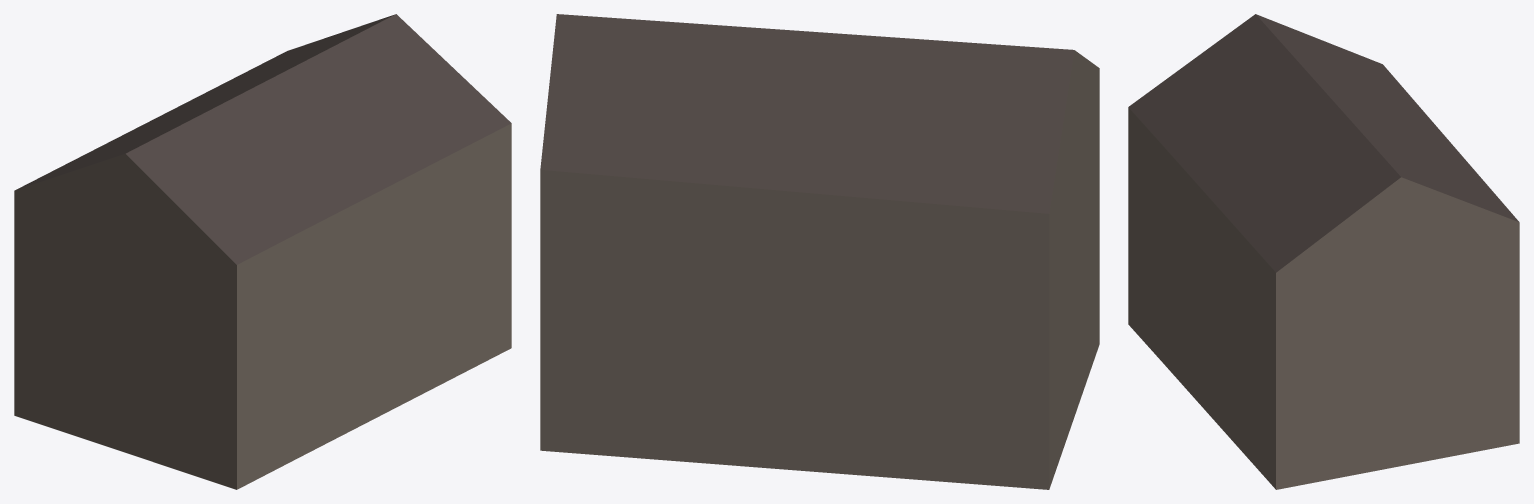
The picture shows the model from 3 angles, left to right: view 1: azimuth 30°, elevation 25°; view 2: azimuth 150°, elevation 25°; view 3: azimuth 270°, elevation 25°; orthographic projection. The views are drawn at different scales.
Parts seen in each view (by area): view 1: HP-w1513026719; view 2: HP-w1513026719; view 3: HP-w1513026719.
Boxes of the visible parts, x1,y1,x2,y2 form: HP-w1513026719: (14,14,511,489); HP-w1513026719: (540,14,1099,489); HP-w1513026719: (1128,14,1519,489).
Size of the model in its own units: 12.35 by 7.98 by 9.8.
